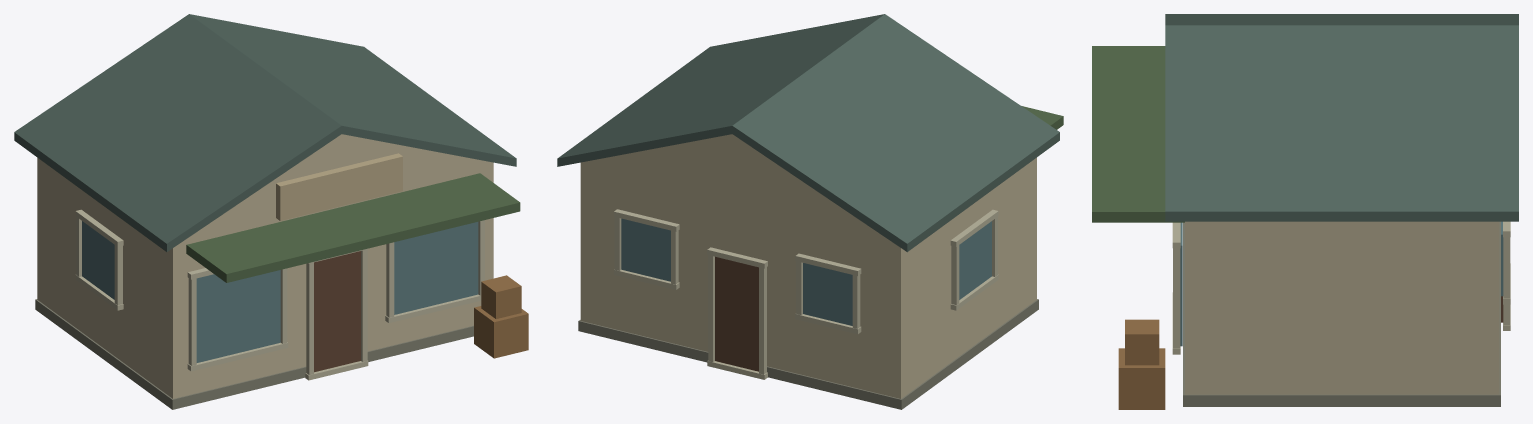
Rendered from Building_Settlement_GeneralStore_001_LOD1.glb.
3 renders of one model, left to right at view 1: azimuth 30°, elevation 25°; view 2: azimuth 150°, elevation 25°; view 3: azimuth 270°, elevation 25°, orthographic. The views are drawn at different scales.
Visible parts, largest first — view 1: Building_Settlement_GeneralStore_001_LOD1; view 2: Building_Settlement_GeneralStore_001_LOD1; view 3: Building_Settlement_GeneralStore_001_LOD1.
Boxes of the visible parts, x1=… form: Building_Settlement_GeneralStore_001_LOD1: x1=14, y1=14, x2=528, y2=409; Building_Settlement_GeneralStore_001_LOD1: x1=557, y1=14, x2=1063, y2=409; Building_Settlement_GeneralStore_001_LOD1: x1=1092, y1=14, x2=1518, y2=409.
Bounding box in the file's own units: 6.55 × 4.48 × 5.97.
